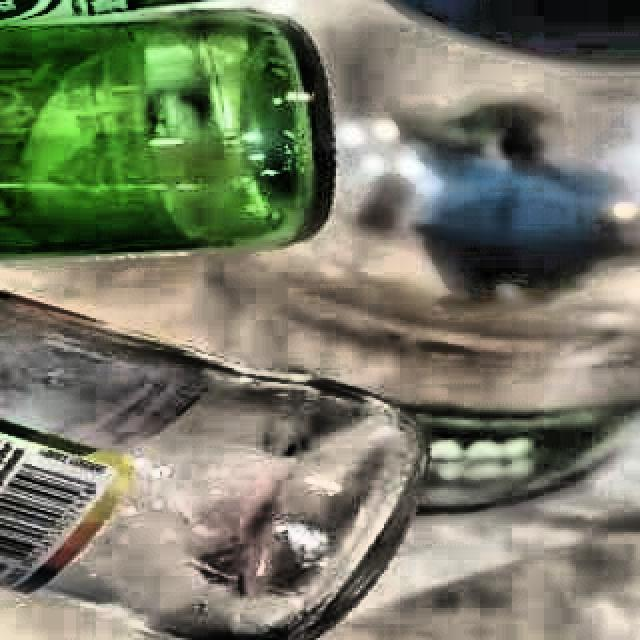glass: (0, 293, 421, 640)
